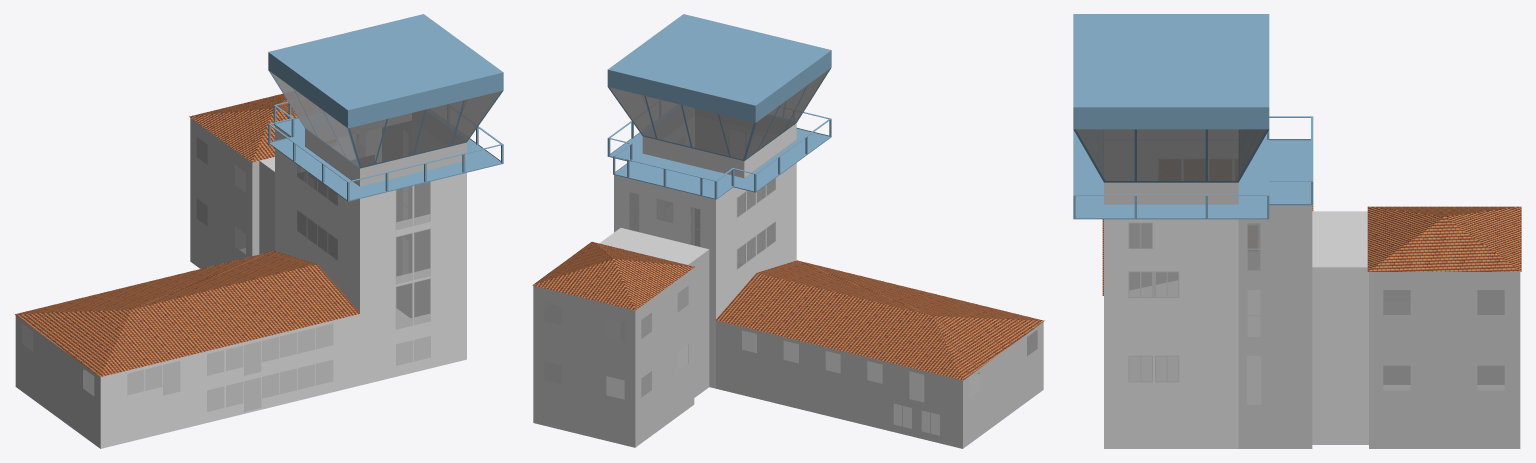
File: LFBI_Tower.glb
3 views of the same model, side by side, from view 1: azimuth 30°, elevation 25°; view 2: azimuth 150°, elevation 25°; view 3: azimuth 270°, elevation 25° (orthographic). The views are drawn at different scales.
Visible parts, largest first — view 1: blah.002, blah, blah.004, blah.001, blah.003; view 2: blah, blah.004, blah.001, blah.002, blah.003; view 3: blah, blah.002, blah.001, blah.003, blah.004.
Boxes of the visible parts, x1,y1,x2,y2 form: blah.002: (100,121,466,448); blah: (15,110,466,448); blah.004: (15,93,359,376); blah.001: (268,14,503,201); blah.003: (22,71,501,410); blah: (533,106,1043,448); blah.004: (532,241,1044,380); blah.001: (607,14,831,199); blah.002: (606,116,1037,388); blah.003: (544,68,1037,435); blah: (1104,140,1520,448); blah.002: (1104,129,1368,448); blah.001: (1073,14,1313,219); blah.003: (1076,129,1504,404); blah.004: (1102,205,1521,295).
Bounding box in the file's own units: 22.64 × 16.05 × 18.3.
Materials: 5 (1 with a texture image).
